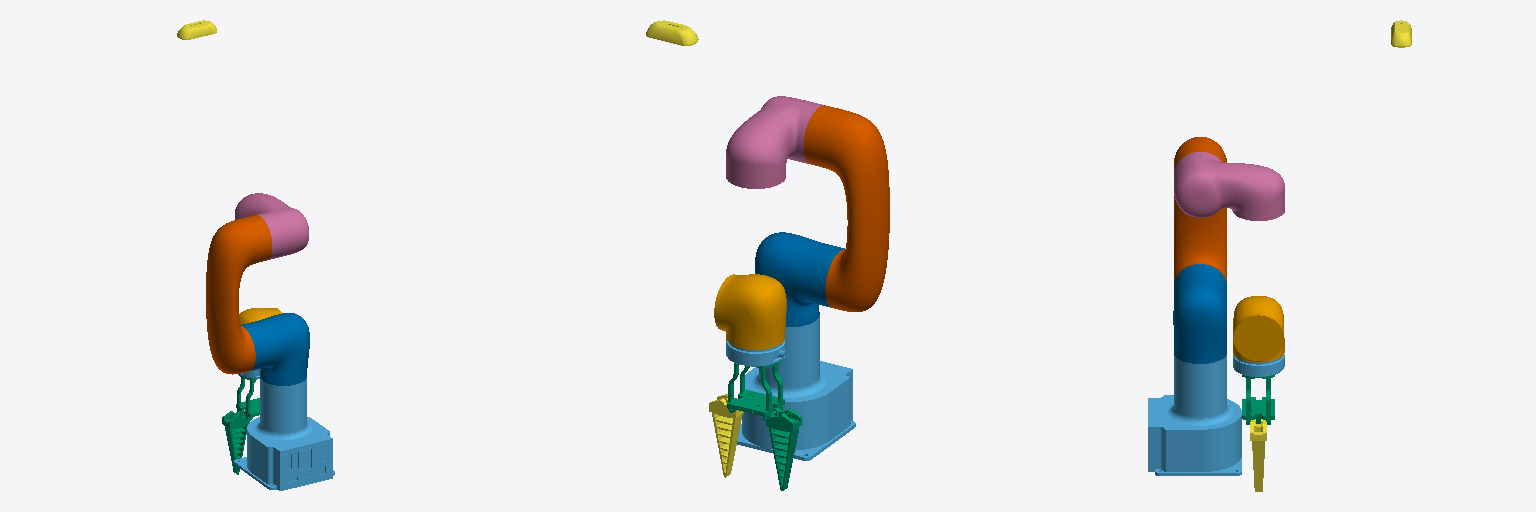
URDF robot description (lite_6_robotarm):
<?xml version="1.0" ?>
<robot name="lite_6_robotarm">
<!-- Table Components -->
  <link name="baseLink">
    <contact>
      <lateral_friction value="1.0"/>
    </contact>
    <inertial>
      <origin rpy="0 0 0" xyz="0 0 0"/>
       <mass value=".0"/>
       <inertia ixx="1" ixy="0" ixz="0" iyy="1" iyz="0" izz="1"/>
    </inertial>
    <visual>
      <origin rpy="0 0 0" xyz="0 0 0.6"/>
      <geometry>
				<mesh filename="table.obj" scale="1.5 1 0.05"/>
      </geometry>
       <material name="white">
        <color rgba="1 1 1 1"/>
      </material>
    </visual>
    <collision>
      <origin rpy="0 0 0" xyz="0 0 0.6"/>
      <geometry>
	 	<box size="1.5 1 0.05"/>
      </geometry>
    </collision>
	<visual>
      <origin rpy="0 0 0" xyz="-0.65 -0.4 0.29"/>
      <geometry>
	    <mesh filename="table.obj" scale="0.1 0.1 0.58"/>
      </geometry>
	  <material name="white"/>	 
    </visual>
    <visual>
      <origin rpy="0 0 0" xyz="-0.65 0.4 0.29"/>
      <geometry>
        <mesh filename="table.obj" scale="0.1 0.1 0.58"/>
      </geometry>
	  <material name="white"/>
	  </visual>
    <visual>
      <origin rpy="0 0 0" xyz="0.65 -0.4 0.29"/>
      <geometry>
        <mesh filename="table.obj" scale="0.1 0.1 0.58"/>
      </geometry>
	  <material name="white"/>
	  </visual>
    <visual>
      <origin rpy="0 0 0" xyz="0.65 0.4 0.29"/>
      <geometry>
        <mesh filename="table.obj" scale="0.1 0.1 0.58"/>
      </geometry>
    </visual>
  </link>
<!-- RobotArm Components -->
  <material name="silver">
    <color rgba="0.700 0.700 0.700 1.000"/>
  </material>
  
  <link name="base_link">
    <inertial>
      <origin xyz="-1.4819862268024002e-06 -0.00020774933500536933 0.06315172999266203" rpy="0 0 0"/>
      <mass value="12.96819491810422"/>
      <inertia ixx="0.04245115685707855" iyy="0.03958711946350989" izz="0.026256756827603374" ixy="-1.3246006420518412e-06" iyz="-0.002653322519647819" ixz="-6.396562934922565e-07"/>
    </inertial>
    <visual>
      <origin xyz="0 0 0" rpy="0 0 0"/>
      <geometry>
        <mesh filename="meshes/base_link.stl" scale="0.001 0.001 0.001"/>
      </geometry>
      <material name="silver"/>
      <material/>
    </visual>
    <collision>
      <origin xyz="0 0 0" rpy="0 0 0"/>
      <geometry>
        <mesh filename="meshes/base_link.stl" scale="0.001 0.001 0.001"/>
      </geometry>
    </collision>
  </link>
  
  <link name="left_finger1">
    <inertial>
      <origin xyz="-0.016649755589227728 0.011001870239480141 -0.02841150300648422" rpy="0 0 0"/>
      <mass value="0.19713513253030895"/>
      <inertia ixx="0.00015875463919208608" iyy="0.00017136843527207574" izz="3.081441906987179e-05" ixy="4.222201108704249e-09" iyz="-8.24694043664951e-09" ixz="-1.4291502258722178e-06"/>
    </inertial>
    <visual>
      <origin xyz="0.0258 -0.083983 -0.07189" rpy="0 0 0"/>
      <geometry>
        <mesh filename="meshes/left_finger1.stl" scale="0.001 0.001 0.001"/>
      </geometry>
      <material name="silver"/>
      <material/>
    </visual>
    <collision>
      <origin xyz="0.0258 -0.083983 -0.07189" rpy="0 0 0"/>
      <geometry>
        <mesh filename="meshes/left_finger1.stl" scale="0.001 0.001 0.001"/>
      </geometry>
    </collision>
  </link>
  
  <link name="right_finger1">
    <inertial>
      <origin xyz="0.016649736524671027 0.010999040184855674 -0.02841150300648429" rpy="0 0 0"/>
      <mass value="0.19713513253031012"/>
      <inertia ixx="0.00015875463919208738" iyy="0.00017136843527207682" izz="3.081441906987222e-05" ixy="4.222201108487408e-09" iyz="8.24694043654109e-09" ixz="1.4291502258720551e-06"/>
    </inertial>
    <visual>
      <origin xyz="-0.0262 -0.083983 -0.07189" rpy="0 0 0"/>
      <geometry>
        <mesh filename="meshes/right_finger1.stl" scale="0.001 0.001 0.001"/>
      </geometry>
      <material name="silver"/>
      <material/>
    </visual>
    <collision>
      <origin xyz="-0.0262 -0.083983 -0.07189" rpy="0 0 0"/>
      <geometry>
        <mesh filename="meshes/right_finger1.stl" scale="0.001 0.001 0.001"/>
      </geometry>
    </collision>
  </link>
  
  <link name="link_21">
    <inertial>
      <origin xyz="-0.015123860071906185 2.5593691362589543e-06 0.05792607647334416" rpy="0 0 0"/>
      <mass value="6.037125676328531"/>
      <inertia ixx="0.007409450913407611" iyy="0.01105711269112808" izz="0.008596428432760296" ixy="-1.703390557602786e-06" iyz="-1.7606027186162915e-06" ixz="0.0012333184030674585"/>
    </inertial>
    <visual>
      <origin xyz="-0.0 -0.008 -0.173" rpy="0 0 0"/>
      <geometry>
        <mesh filename="meshes/link_21.stl" scale="0.001 0.001 0.001"/>
      </geometry>
      <material name="silver"/>
      <material/>
    </visual>
    <collision>
      <origin xyz="-0.0 -0.008 -0.173" rpy="0 0 0"/>
      <geometry>
        <mesh filename="meshes/link_21.stl" scale="0.001 0.001 0.001"/>
      </geometry>
    </collision>
  </link>
  
  <link name="link_31">
    <inertial>
      <origin xyz="-0.024766771950062688 -1.6220963948779255e-08 0.11471132098630415" rpy="0 0 0"/>
      <mass value="8.450151606335128"/>
      <inertia ixx="0.0586124956243681" iyy="0.05987853616620131" izz="0.007960376393872759" ixy="1.6612289243864153e-09" iyz="7.127192395289805e-09" ixz="-0.005489820855790861"/>
    </inertial>
    <visual>
      <origin xyz="0.078 -0.008 -0.243" rpy="0 0 0"/>
      <geometry>
        <mesh filename="meshes/link_31.stl" scale="0.001 0.001 0.001"/>
      </geometry>
      <material name="silver"/>
      <material/>
    </visual>
    <collision>
      <origin xyz="0.078 -0.008 -0.243" rpy="0 0 0"/>
      <geometry>
        <mesh filename="meshes/link_31.stl" scale="0.001 0.001 0.001"/>
      </geometry>
    </collision>
  </link>
  
  <link name="link_41">
    <inertial>
      <origin xyz="0.04266107113703172 0.07195926329740293 -0.0011071877313075795" rpy="0 0 0"/>
      <mass value="3.1266058733611786"/>
      <inertia ixx="0.004216497892854831" iyy="0.0025925805332278617" izz="0.004432592057271385" ixy="-0.0006145655473512936" iyz="0.0004038169742403702" ixz="-3.480702166943359e-05"/>
    </inertial>
    <visual>
      <origin xyz="0.045 -0.008 -0.443" rpy="0 0 0"/>
      <geometry>
        <mesh filename="meshes/link_41.stl" scale="0.001 0.001 0.001"/>
      </geometry>
      <material name="silver"/>
      <material/>
    </visual>
    <collision>
      <origin xyz="0.045 -0.008 -0.443" rpy="0 0 0"/>
      <geometry>
        <mesh filename="meshes/link_41.stl" scale="0.001 0.001 0.001"/>
      </geometry>
    </collision>
  </link>
  
  <link name="link_51">
    <inertial>
      <origin xyz="0.02518806394514212 -5.202933294479184e-07 -0.09770534814377974" rpy="0 0 0"/>
      <mass value="9.415324412121745"/>
      <inertia ixx="0.03174606440787653" iyy="0.03899306351965948" izz="0.015081744665439559" ixy="2.2377047716529153e-07" iyz="-1.847902088569775e-07" ixz="0.01035372451802729"/>
    </inertial>
    <visual>
      <origin xyz="0.0003 -0.095 -0.408" rpy="0 0 0"/>
      <geometry>
        <mesh filename="meshes/link_51.stl" scale="0.001 0.001 0.001"/>
      </geometry>
      <material name="silver"/>
      <material/>
    </visual>
    <collision>
      <origin xyz="0.0003 -0.095 -0.408" rpy="0 0 0"/>
      <geometry>
        <mesh filename="meshes/link_51.stl" scale="0.001 0.001 0.001"/>
      </geometry>
    </collision>
  </link>
  
  <link name="link_61">
    <inertial>
      <origin xyz="-0.03808287255784253 2.18282484643062e-07 -0.0016448277556807278" rpy="0 0 0"/>
      <mass value="3.198235745543407"/>
      <inertia ixx="0.002815447770259466" iyy="0.0029866862987641685" izz="0.002626395753246802" ixy="1.3494393247899701e-08" iyz="-1.5062826264067297e-09" ixz="-4.928553672503685e-05"/>
    </inertial>
    <visual>
      <origin xyz="-0.041217 -0.094983 -0.21589" rpy="0 0 0"/>
      <geometry>
        <mesh filename="meshes/link_61.stl" scale="0.001 0.001 0.001"/>
      </geometry>
      <material name="silver"/>
      <material/>
    </visual>
    <collision>
      <origin xyz="-0.041217 -0.094983 -0.21589" rpy="0 0 0"/>
      <geometry>
        <mesh filename="meshes/link_61.stl" scale="0.001 0.001 0.001"/>
      </geometry>
    </collision>
  </link>
  
  <link name="link_71">
    <inertial>
      <origin xyz="0.00012991172119495537 -6.044617565784116e-05 -0.011116005669908113" rpy="0 0 0"/>
      <mass value="0.6627466143452483"/>
      <inertia ixx="0.00028716382427402404" iyy="0.0002850704520966363" izz="0.0005151451067073685" ixy="-2.3262996892472998e-07" iyz="-4.842404329047367e-07" ixz="2.8539443565770084e-07"/>
    </inertial>
    <visual>
      <origin xyz="-0.0002 -0.094983 -0.17489" rpy="0 0 0"/>
      <geometry>
        <mesh filename="meshes/link_71.stl" scale="0.001 0.001 0.001"/>
      </geometry>
      <material name="silver"/>
      <material/>
    </visual>
    <collision>
      <origin xyz="-0.0002 -0.094983 -0.17489" rpy="0 0 0"/>
      <geometry>
        <mesh filename="meshes/link_71.stl" scale="0.001 0.001 0.001"/>
      </geometry>
    </collision>
  </link>
  
  <link name="gripper_mount1">
    <inertial>
      <origin xyz="-0.0004174510117322854 4.5521217123534186e-07 -0.03664819684752249" rpy="0 0 0"/>
      <mass value="0.21065401289475527"/>
      <inertia ixx="0.0002669591608645758" iyy="0.0003047580589882726" izz="0.0001309293590587169" ixy="-3.0429382381781955e-07" iyz="3.903127820947816e-18" ixz="2.826970614363487e-06"/>
    </inertial>
    <visual>
      <origin xyz="-0.0002 -0.094983 -0.15139" rpy="0 0 0"/>
      <geometry>
        <mesh filename="meshes/gripper_mount1.stl" scale="0.001 0.001 0.001"/>
      </geometry>
      <material name="silver"/>
      <material/>
    </visual>
    <collision>
      <origin xyz="-0.0002 -0.094983 -0.15139" rpy="0 0 0"/>
      <geometry>
        <mesh filename="meshes/gripper_mount1.stl" scale="0.001 0.001 0.001"/>
      </geometry>
    </collision>
  </link>
  
  <link name="camera_top1">
    <inertial>
      <origin xyz="0.003631352481101799 0.30000013218307503 0.5284777989886029" rpy="0 0 0"/>
      <mass value="0.2214912391329027"/>
      <inertia ixx="1.8778615289510858e-05" iyy="7.698046392073943e-05" izz="8.623466765011675e-05" ixy="7.072412521618755e-10" iyz="1.9017094843309934e-10" ixz="1.6252159380455468e-07"/>
    </inertial>
    <visual>
      <origin xyz="-0.0 -0.008 -0.173" rpy="0 0 0"/>
      <geometry>
        <mesh filename="meshes/camera_top1.stl" scale="0.001 0.001 0.001"/>
      </geometry>
      <material name="silver"/>
      <material/>
    </visual>
    <collision>
      <origin xyz="-0.0 -0.008 -0.173" rpy="0 0 0"/>
      <geometry>
        <mesh filename="meshes/camera_top1.stl" scale="0.001 0.001 0.001"/>
      </geometry>
    </collision>
  </link>
<!-- Table - RoborAtm joint Components -->
  <joint name="table_robotarm" type="continuous">
    <origin xyz="-1.4819862268024002e-06 -0.00020774933500536933 0" rpy="0 0 0"/>
    <parent link="baseLink"/>
    <child link="base_link"/>
    <axis xyz="-0.0 1.0 -0.0"/>
  </joint>
  <transmission name="table_robotarm_tran">
    <type>transmission_interface/SimpleTransmission</type>
    <joint name="table_robotarm">
      <hardwareInterface>PositionJointInterface</hardwareInterface>
    </joint>
    <actuator name="table_robotarm_actr">
      <hardwareInterface>PositionJointInterface</hardwareInterface>
      <mechanicalReduction>1</mechanicalReduction>
    </actuator>
  </transmission>
<!-- RobotArm joint Components -->
  <joint name="right_gripper" type="continuous">
    <origin xyz="-0.026 -0.011 -0.0795" rpy="0 0 0"/>
    <parent link="gripper_mount1"/>
    <child link="left_finger1"/>
    <axis xyz="-0.0 1.0 -0.0"/>
  </joint>
  <transmission name="right_gripper_tran">
    <type>transmission_interface/SimpleTransmission</type>
    <joint name="right_gripper">
      <hardwareInterface>PositionJointInterface</hardwareInterface>
    </joint>
    <actuator name="right_gripper_actr">
      <hardwareInterface>PositionJointInterface</hardwareInterface>
      <mechanicalReduction>1</mechanicalReduction>
    </actuator>
  </transmission>
  
  <joint name="left_gripper" type="continuous">
    <origin xyz="0.026 -0.011 -0.0795" rpy="0 0 0"/>
    <parent link="gripper_mount1"/>
    <child link="right_finger1"/>
    <axis xyz="-0.0 1.0 -0.0"/>
  </joint>
  <transmission name="left_gripper_tran">
    <type>transmission_interface/SimpleTransmission</type>
    <joint name="left_gripper">
      <hardwareInterface>PositionJointInterface</hardwareInterface>
    </joint>
    <actuator name="left_gripper_actr">
      <hardwareInterface>PositionJointInterface</hardwareInterface>
      <mechanicalReduction>1</mechanicalReduction>
    </actuator>
  </transmission>
  
  <joint name="base_link2" type="continuous">
    <origin xyz="0.0 0.008 0.173" rpy="0 0 0"/>
    <parent link="base_link"/>
    <child link="link_21"/>
    <axis xyz="0.0 -0.0 1.0"/>
  </joint>
  <transmission name="base_link2_tran">
    <type>transmission_interface/SimpleTransmission</type>
    <joint name="base_link2">
      <hardwareInterface>PositionJointInterface</hardwareInterface>
    </joint>
    <actuator name="base_link2_actr">
      <hardwareInterface>PositionJointInterface</hardwareInterface>
      <mechanicalReduction>1</mechanicalReduction>
    </actuator>
  </transmission>
  
  <joint name="link2_link3" type="continuous">
    <origin xyz="-0.078 0.0 0.07" rpy="0 0 0"/>
    <parent link="link_21"/>
    <child link="link_31"/>
    <axis xyz="-1.0 0.0 0.0"/>
  </joint>
  <transmission name="link2_link3_tran">
    <type>transmission_interface/SimpleTransmission</type>
    <joint name="link2_link3">
      <hardwareInterface>PositionJointInterface</hardwareInterface>
    </joint>
    <actuator name="link2_link3_actr">
      <hardwareInterface>PositionJointInterface</hardwareInterface>
      <mechanicalReduction>1</mechanicalReduction>
    </actuator>
  </transmission>
  
  <joint name="link3_link4" type="continuous">
    <origin xyz="0.033 0.0 0.2" rpy="0 0 0"/>
    <parent link="link_31"/>
    <child link="link_41"/>
    <axis xyz="1.0 -0.0 -0.0"/>
  </joint>
  <transmission name="link3_link4_tran">
    <type>transmission_interface/SimpleTransmission</type>
    <joint name="link3_link4">
      <hardwareInterface>PositionJointInterface</hardwareInterface>
    </joint>
    <actuator name="link3_link4_actr">
      <hardwareInterface>PositionJointInterface</hardwareInterface>
      <mechanicalReduction>1</mechanicalReduction>
    </actuator>
  </transmission>
  
  <joint name="link4_link5" type="continuous">
    <origin xyz="0.0447 0.087 -0.035" rpy="0 0 0"/>
    <parent link="link_41"/>
    <child link="link_51"/>
    <axis xyz="-0.0 -0.0 -1.0"/>
  </joint>
  <transmission name="link4_link5_tran">
    <type>transmission_interface/SimpleTransmission</type>
    <joint name="link4_link5">
      <hardwareInterface>PositionJointInterface</hardwareInterface>
    </joint>
    <actuator name="link4_link5_actr">
      <hardwareInterface>PositionJointInterface</hardwareInterface>
      <mechanicalReduction>1</mechanicalReduction>
    </actuator>
  </transmission>
  
  <joint name="link5_link6" type="continuous">
    <origin xyz="0.041517 -1.7e-05 -0.19211" rpy="0 0 0"/>
    <parent link="link_51"/>
    <child link="link_61"/>
    <axis xyz="-1.0 -0.0 -0.0"/>
  </joint>
  <transmission name="link5_link6_tran">
    <type>transmission_interface/SimpleTransmission</type>
    <joint name="link5_link6">
      <hardwareInterface>PositionJointInterface</hardwareInterface>
    </joint>
    <actuator name="link5_link6_actr">
      <hardwareInterface>PositionJointInterface</hardwareInterface>
      <mechanicalReduction>1</mechanicalReduction>
    </actuator>
  </transmission>
  
  <joint name="link6_link7" type="continuous">
    <origin xyz="-0.041017 0.0 -0.041" rpy="0 0 0"/>
    <parent link="link_61"/>
    <child link="link_71"/>
    <axis xyz="0.0 -0.0 -1.0"/>
  </joint>
  <transmission name="link6_link7_tran">
    <type>transmission_interface/SimpleTransmission</type>
    <joint name="link6_link7">
      <hardwareInterface>PositionJointInterface</hardwareInterface>
    </joint>
    <actuator name="link6_link7_actr">
      <hardwareInterface>PositionJointInterface</hardwareInterface>
      <mechanicalReduction>1</mechanicalReduction>
    </actuator>
  </transmission>
  
  <joint name="link7_gripper" type="continuous">
    <origin xyz="0.0 0.0 -0.0235" rpy="0 0 0"/>
    <parent link="link_71"/>
    <child link="gripper_mount1"/>
    <axis xyz="0.0 -0.0 -1.0"/>
  </joint>
  <transmission name="link7_gripper_tran">
    <type>transmission_interface/SimpleTransmission</type>
    <joint name="link7_gripper">
      <hardwareInterface>PositionJointInterface</hardwareInterface>
    </joint>
    <actuator name="link7_gripper_actr">
      <hardwareInterface>PositionJointInterface</hardwareInterface>
      <mechanicalReduction>1</mechanicalReduction>
    </actuator>
  </transmission>
  
  <joint name="base_camera" type="fixed">
    <origin xyz="0.0 0.008 0.173" rpy="0 0 0"/>
    <parent link="base_link"/>
    <child link="camera_top1"/>
  </joint>

</robot>

--- Render facts (derived) ---
The picture shows the robot from 3 angles, left to right: view 1: azimuth 30°, elevation 25°; view 2: azimuth 150°, elevation 25°; view 3: azimuth 270°, elevation 25°; orthographic projection.
Model lite_6_robotarm with 12 links and 11 joints (10 continuous, 1 fixed), rooted at baseLink, posed every joint at zero.
Visible links, largest first — view 1: base_link, link_31, link_21, link_41, left_finger1, gripper_mount1, camera_top1; view 2: link_31, base_link, link_41, link_21, link_61, gripper_mount1, left_finger1, right_finger1, link_71, camera_top1; view 3: base_link, link_41, link_21, link_31, link_61, gripper_mount1, right_finger1, link_71.
Link boxes in pixels (<box>): base_link: <box>234,378,334,490</box>; link_31: <box>206,215,271,374</box>; link_21: <box>240,313,309,385</box>; link_41: <box>235,193,308,259</box>; left_finger1: <box>222,411,249,474</box>; gripper_mount1: <box>236,374,259,420</box>; camera_top1: <box>177,20,216,39</box>; link_31: <box>804,105,889,311</box>; base_link: <box>737,315,855,460</box>; link_41: <box>726,96,822,188</box>; link_21: <box>755,232,844,326</box>; link_61: <box>714,274,786,349</box>; gripper_mount1: <box>727,360,784,420</box>; left_finger1: <box>766,408,801,490</box>; right_finger1: <box>709,394,743,477</box>; link_71: <box>726,339,786,366</box>; camera_top1: <box>646,20,698,45</box>; base_link: <box>1148,355,1241,475</box>; link_41: <box>1174,152,1284,220</box>; link_21: <box>1173,264,1226,363</box>; link_31: <box>1174,137,1226,281</box>; link_61: <box>1233,296,1284,362</box>; gripper_mount1: <box>1242,375,1274,424</box>; right_finger1: <box>1250,419,1266,491</box>; link_71: <box>1233,354,1284,376</box>.
Bounding box of the posed robot: 0.209 × 0.3935 × 0.7463 m (x, y, z).
10 mesh visuals loaded from 12 distinct referenced files (10 binary STL); not drawn: 6 (reference not matched to a file when rendering).